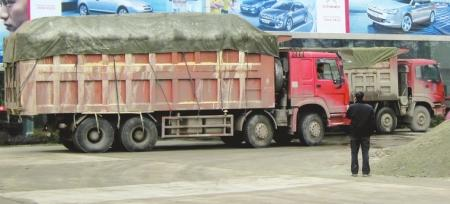chaozhai: (4, 12, 360, 153)
